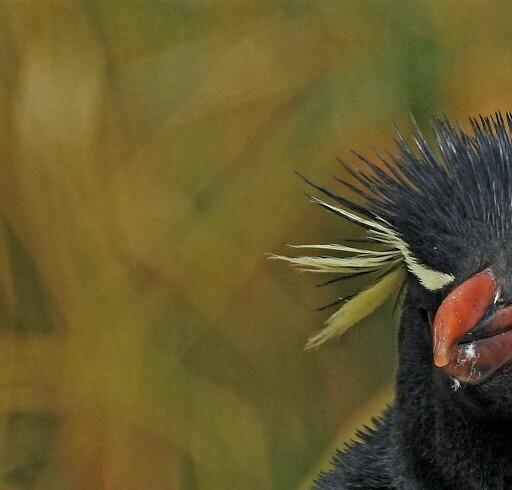Southern Rockhopper Penguin: (61, 33, 512, 490)
